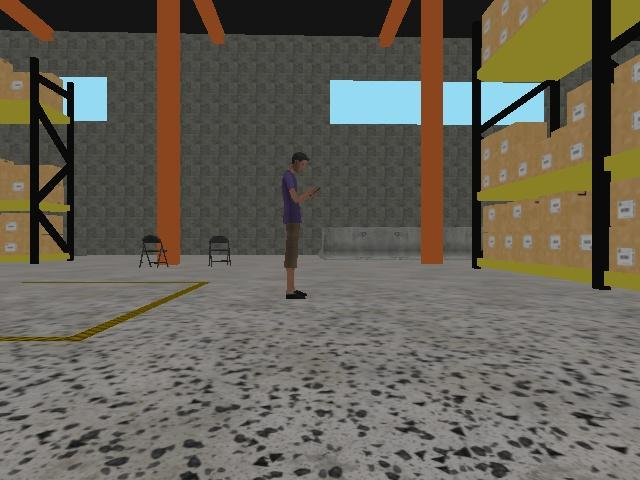chair: (137, 234, 171, 269), (207, 234, 234, 268)
person: (280, 150, 322, 301)
